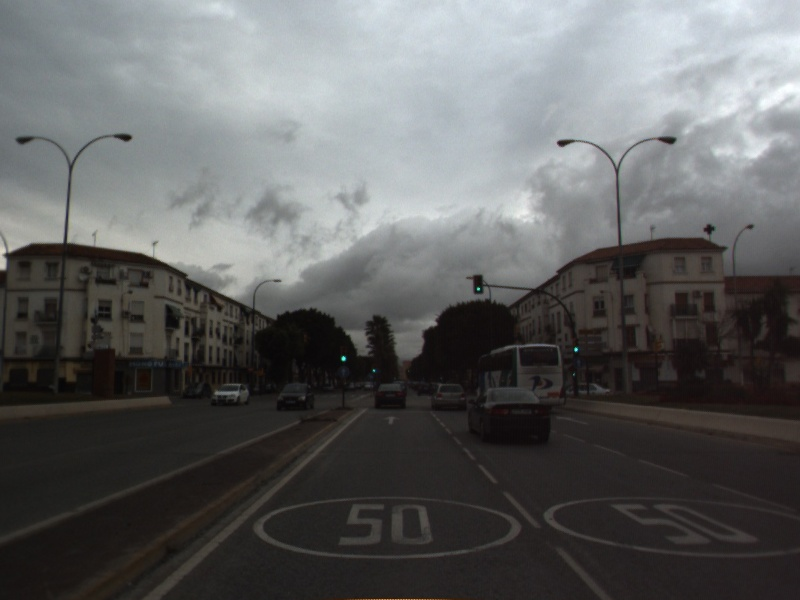STRAIGHT: (554, 413, 591, 427), (381, 414, 403, 427)
